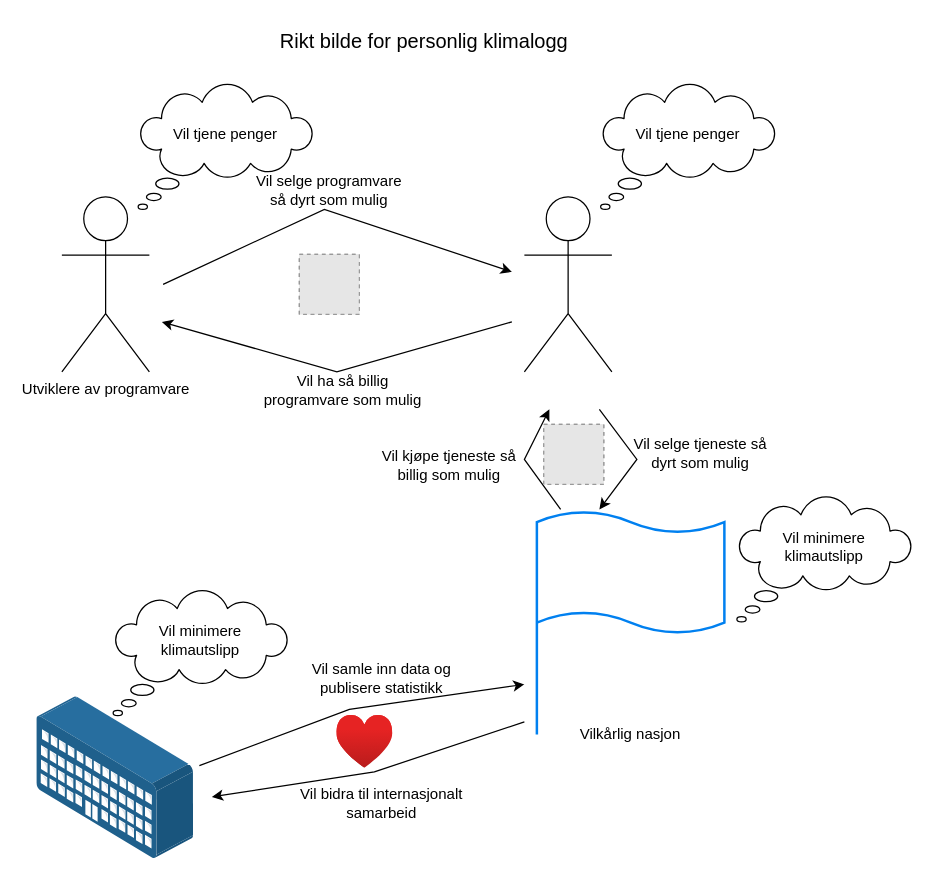
The diagram is 934 pixels wide and 893 high, and some of its shapes have lost their labels. Grey dashed boxes stand in for pictures. Each missing label, with the centre of its shape:
Eierne av selskapet: the point at 567,284
FN: the point at 114,777
